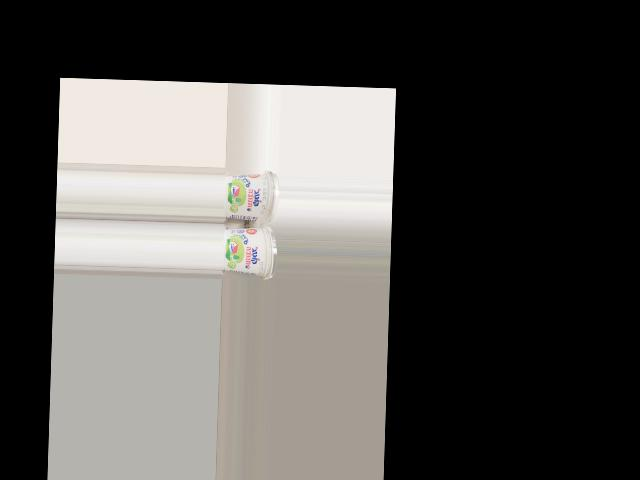cotage: (221, 223, 276, 275)
